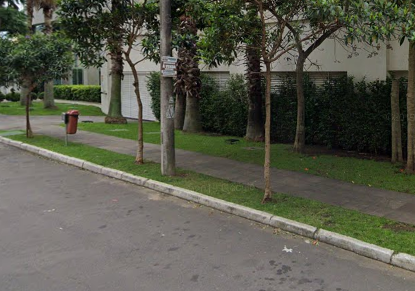vag24: (1, 85, 284, 257)
